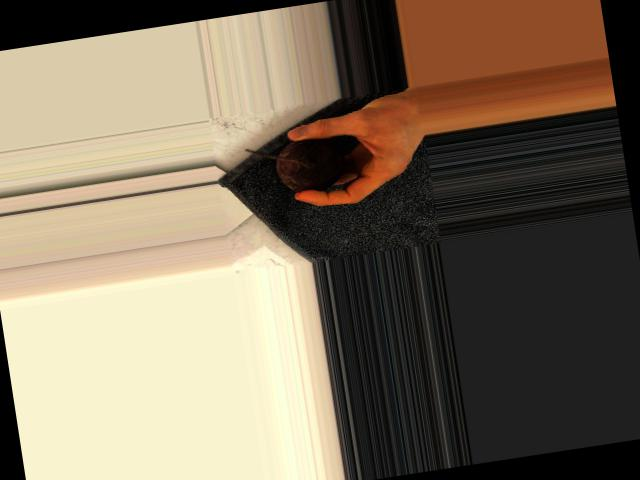beet: (244, 133, 348, 200)
